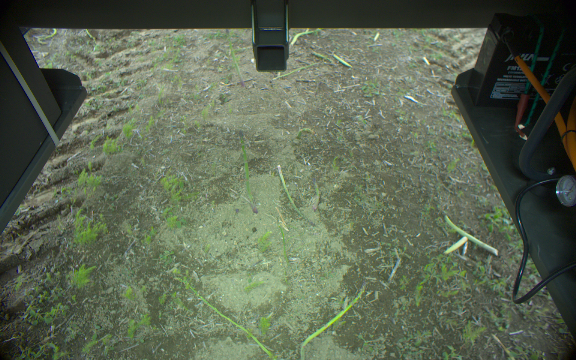aspa: (184, 283, 273, 360), (299, 281, 371, 360), (274, 162, 314, 229), (236, 128, 263, 219), (221, 28, 245, 89), (309, 171, 325, 213), (291, 28, 316, 50)
